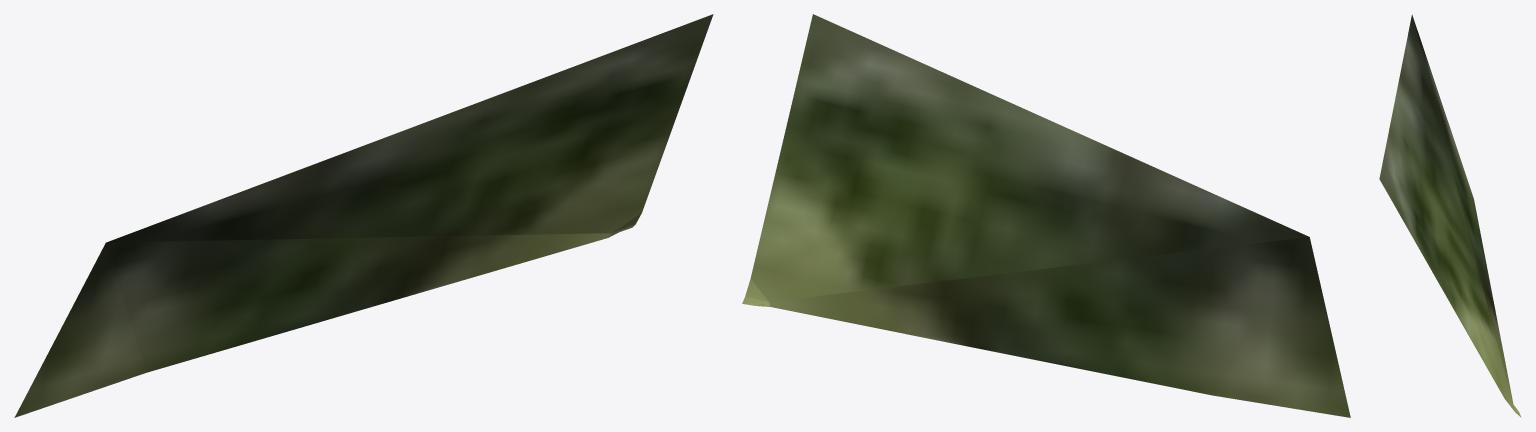
The picture shows the model from 3 angles, left to right: view 1: azimuth 30°, elevation 25°; view 2: azimuth 150°, elevation 25°; view 3: azimuth 270°, elevation 25°; orthographic projection. The views are drawn at different scales.
Size of the model in its own units: 16.58 by 6.57 by 3.55.
1 material, 1 textured.
